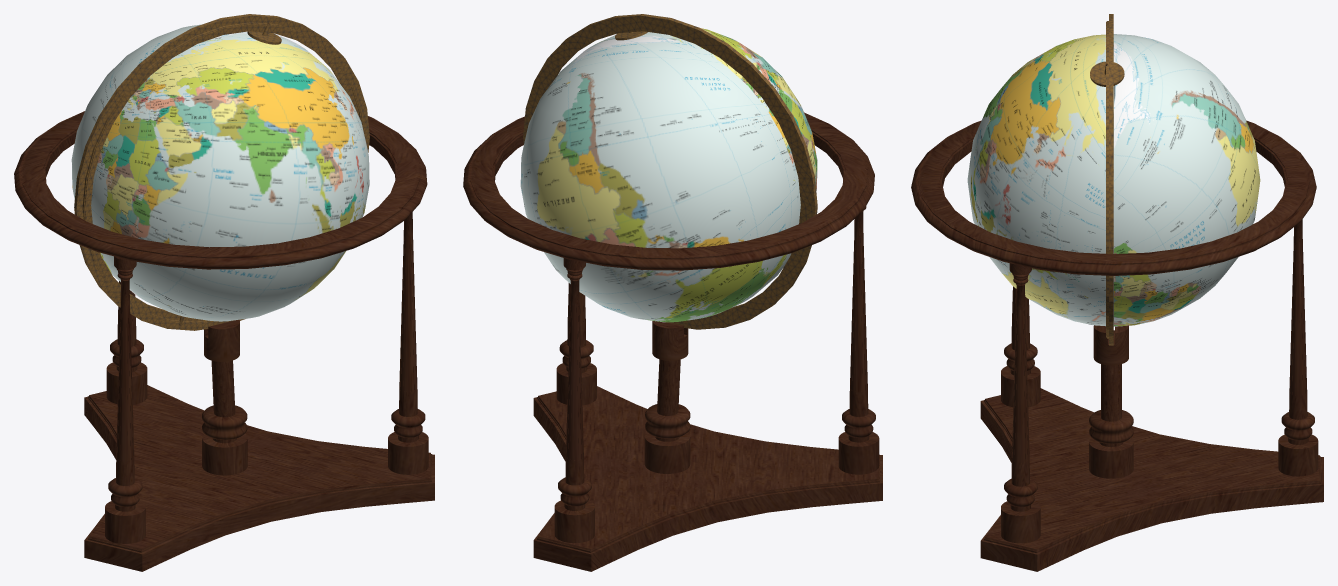
Rendered from Globe.fbx.
The picture shows the model from 3 angles, left to right: view 1: azimuth 30°, elevation 25°; view 2: azimuth 150°, elevation 25°; view 3: azimuth 270°, elevation 25°; orthographic projection. The views are drawn at different scales.
Visible parts, largest first — view 1: WORLD; view 2: WORLD; view 3: WORLD.
Part boxes in pixels (left/top/right/bottom): WORLD: left=14, top=14, right=434, bottom=571; WORLD: left=463, top=14, right=882, bottom=571; WORLD: left=911, top=14, right=1323, bottom=571.
Bounding box in the file's own units: 276 × 345 × 281.
